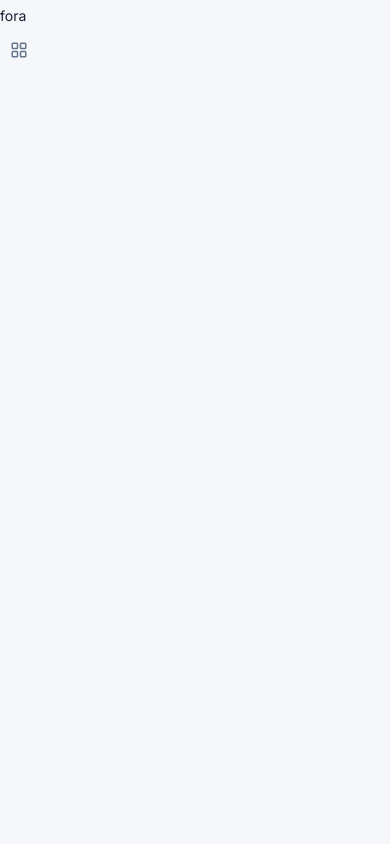
Scenario: MenuDeFerramentas — abrir e fechar › abre pelo botão e fecha pela tecla Escape
Expected: the dialog "Todas as ferramentas" is not shown
Click the button named "Todas as ferramentas" at (19, 50), box [0,32,38,68]
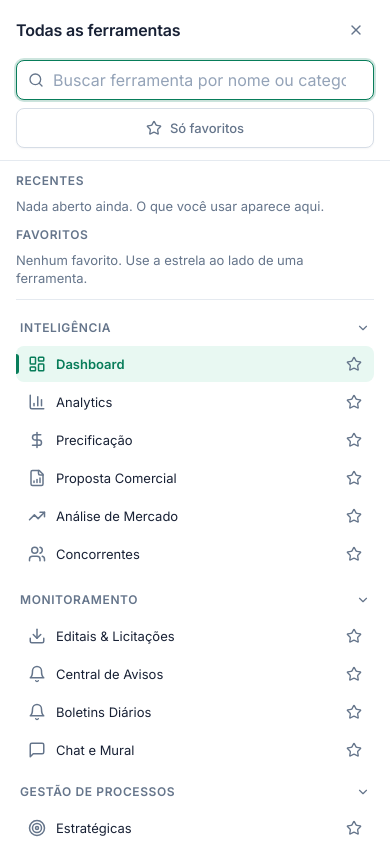
Press Escape
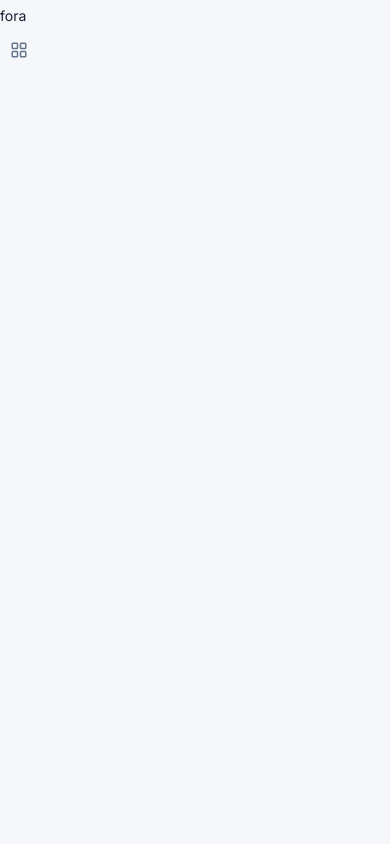
Now the heading "Todas as ferramentas" is gone
